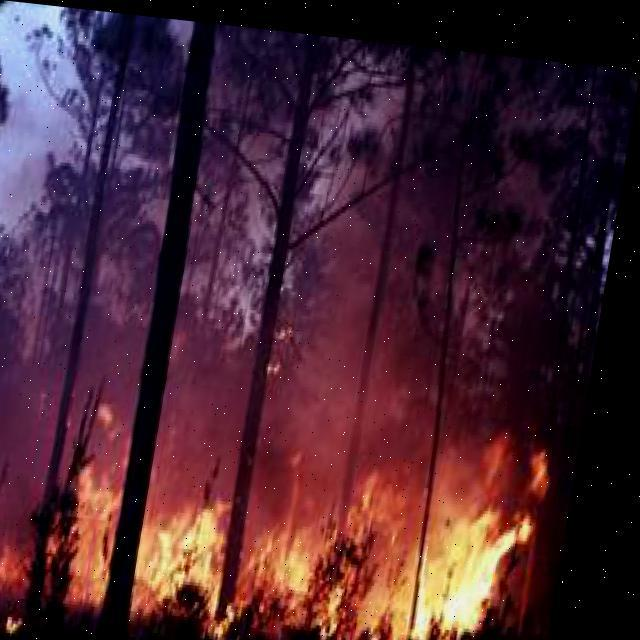Fire: (0, 398, 564, 639)
